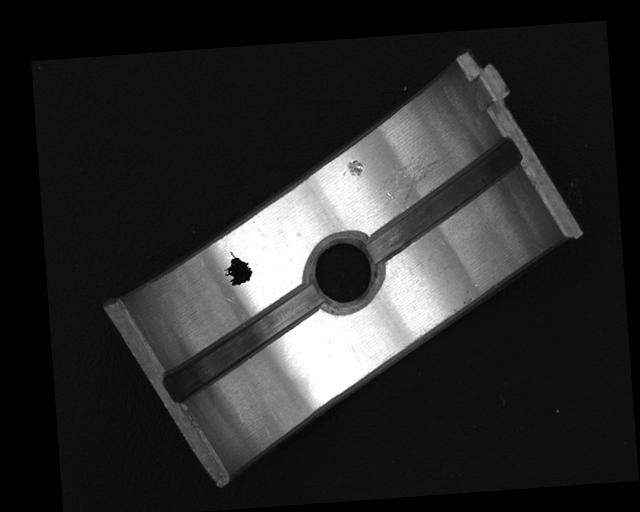blot: (222, 249, 254, 288)
bruise: (341, 158, 364, 178)
gap: (363, 137, 527, 263), (160, 283, 321, 402)
hole: (305, 234, 382, 311)
scratch: (385, 146, 463, 212)
